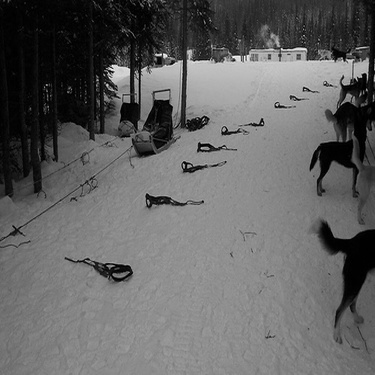dog: (302, 214, 370, 352), (297, 136, 365, 202), (307, 100, 372, 142), (345, 142, 372, 231), (331, 75, 368, 108), (343, 63, 368, 85)
